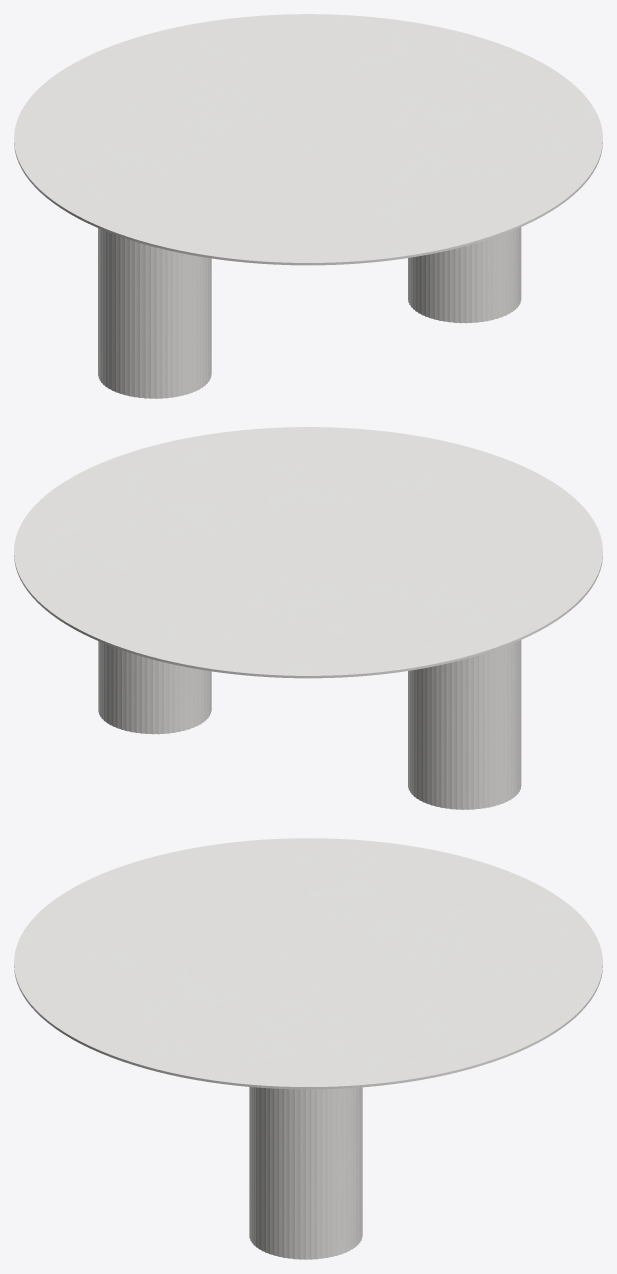
File: purewhite_round_facet_ripplesecond.glb
3 renders of one model, top to bottom at view 1: azimuth 30°, elevation 25°; view 2: azimuth 150°, elevation 25°; view 3: azimuth 270°, elevation 25°, orthographic.
Parts seen in each view (by area): view 1: facet_round, ripplesecond; view 2: facet_round, ripplesecond; view 3: facet_round, ripplesecond.
Part boxes in pixels (box(x1,y1,x2,y2)): facet_round: box(14, 14, 602, 265); ripplesecond: box(98, 227, 521, 398); facet_round: box(14, 427, 602, 678); ripplesecond: box(98, 640, 521, 809); facet_round: box(14, 838, 602, 1089); ripplesecond: box(249, 1087, 362, 1259).
Size of the model in its own units: 6.75 by 2.5 by 6.75.
Materials: 1 (1 with a texture image).
